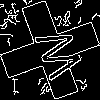W: (25, 25, 85, 85)
